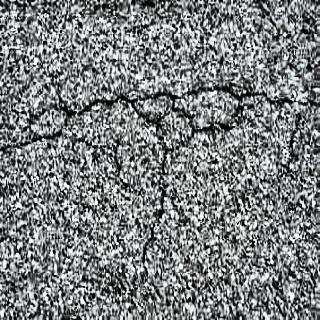crack: (124, 77, 262, 158), (7, 90, 134, 164), (141, 152, 174, 312), (260, 90, 320, 117)
